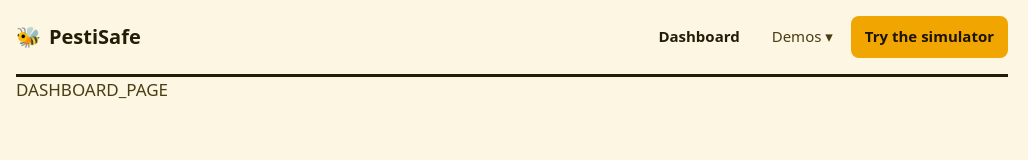
Test: NavBar › navigates to the simulator page via the CTA button
This screenshot has width=1028, height=160.
Step 1. Click the link "Try the simulator" → (929, 37), box [851,16,1008,58]
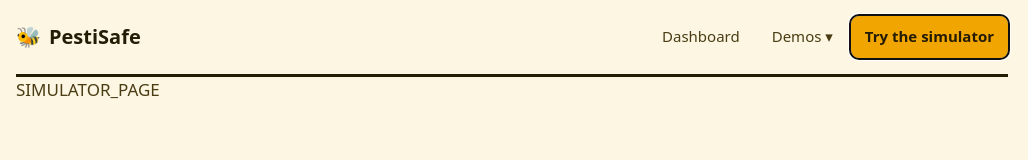
Now the text "SIMULATOR_PAGE" is shown, box [16,78,160,100]
